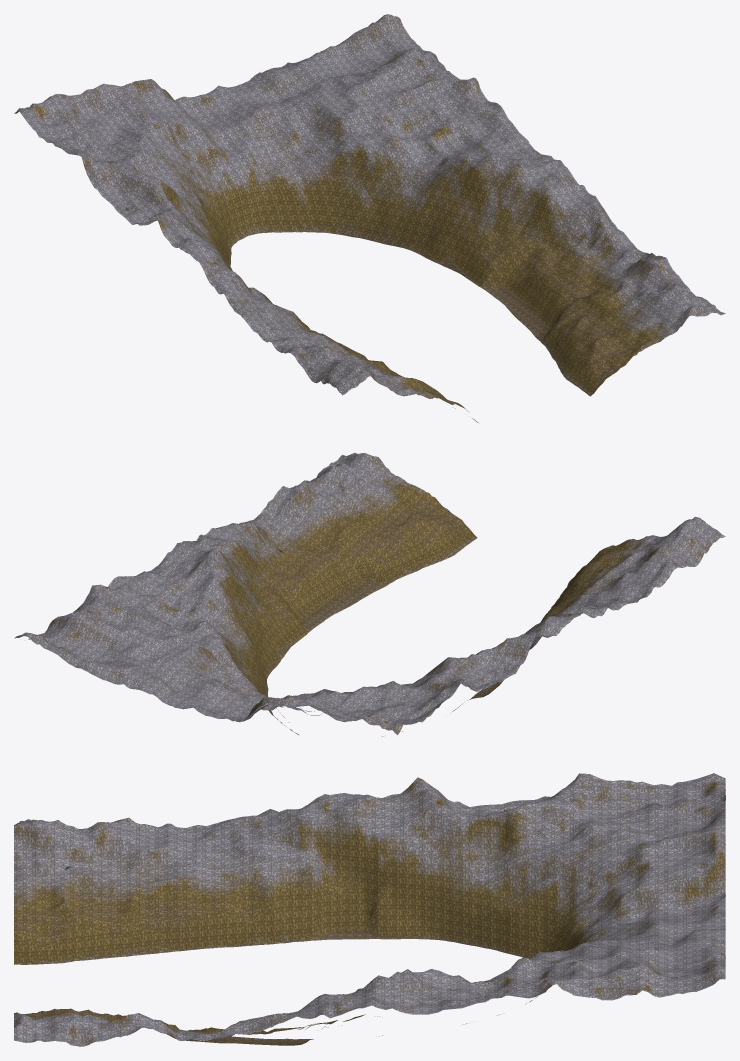
The model's file is fjord-terrain.glb.
3 renders of one model, top to bottom at view 1: azimuth 30°, elevation 25°; view 2: azimuth 150°, elevation 25°; view 3: azimuth 270°, elevation 25°, orthographic. The views are drawn at different scales.
Visible parts, largest first — view 1: terrain; view 2: terrain; view 3: terrain.
Boxes of the visible parts, <box> form: terrain: <box>14,14,725,422</box>; terrain: <box>14,452,725,736</box>; terrain: <box>14,773,725,1046</box>.
Bounding box in the file's own units: 1121 × 316 × 1661.
Materials: 1 (1 with a texture image).
